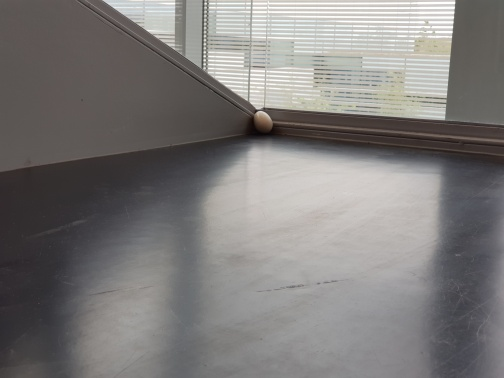egg: (252, 109, 274, 135)
